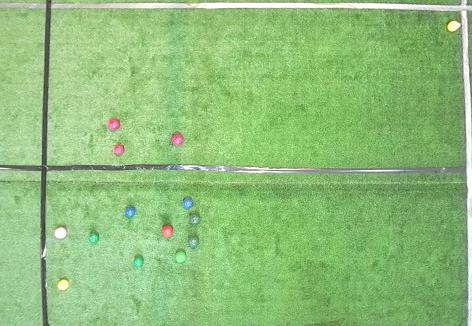blue: (125, 207, 135, 218), (183, 198, 193, 209)
green: (89, 232, 99, 243), (176, 252, 186, 263), (189, 237, 199, 248), (134, 257, 144, 267), (190, 215, 200, 225)
red: (54, 227, 66, 238), (172, 134, 183, 145), (108, 119, 119, 130), (162, 226, 173, 236), (114, 145, 124, 155)
vline: (1, 0, 52, 325), (459, 0, 471, 326)
white: (458, 23, 461, 28)
yellow: (447, 21, 458, 32), (57, 280, 69, 290)
